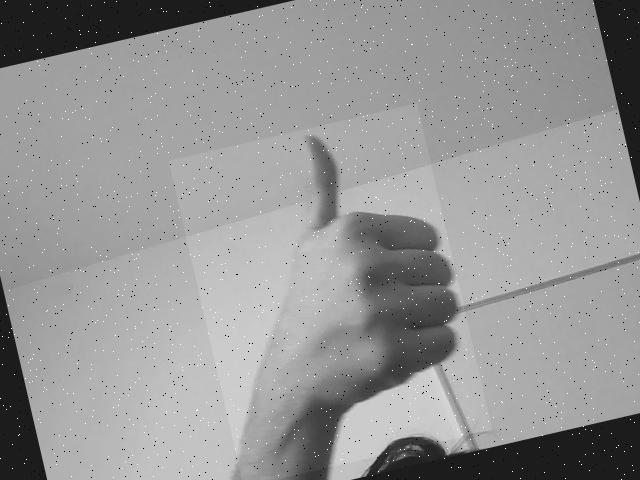good: (236, 129, 468, 464)
